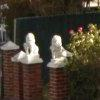Statue: (15, 25, 77, 74)
